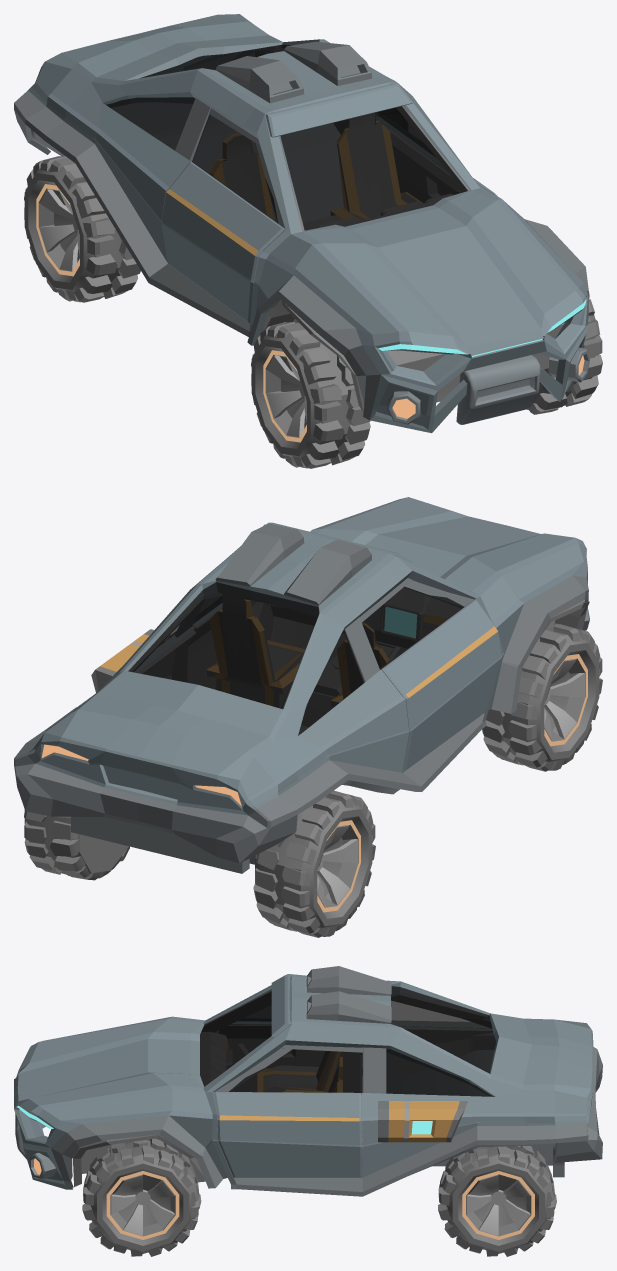
The model's file is suv.glb.
3 views of the same model, one above another, from view 1: azimuth 30°, elevation 25°; view 2: azimuth 150°, elevation 25°; view 3: azimuth 270°, elevation 25° (orthographic). The views are drawn at different scales.
Bounding box in the file's own units: 3.19 × 2.98 × 7.18.
